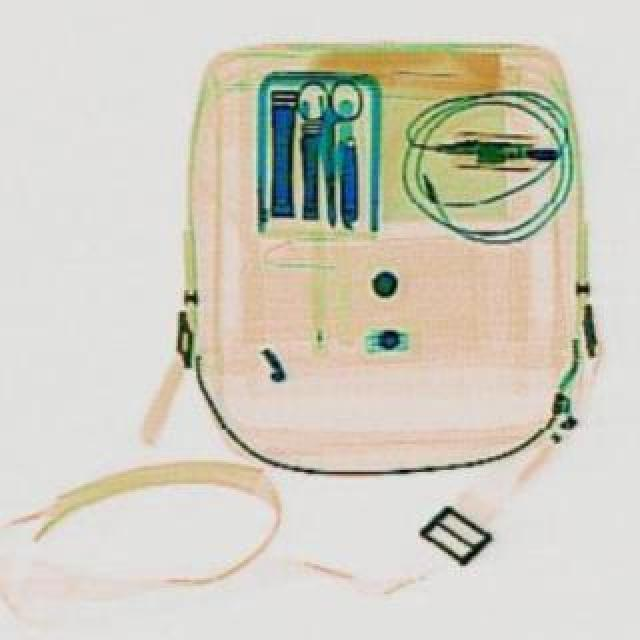pliers: (296, 74, 364, 222)
